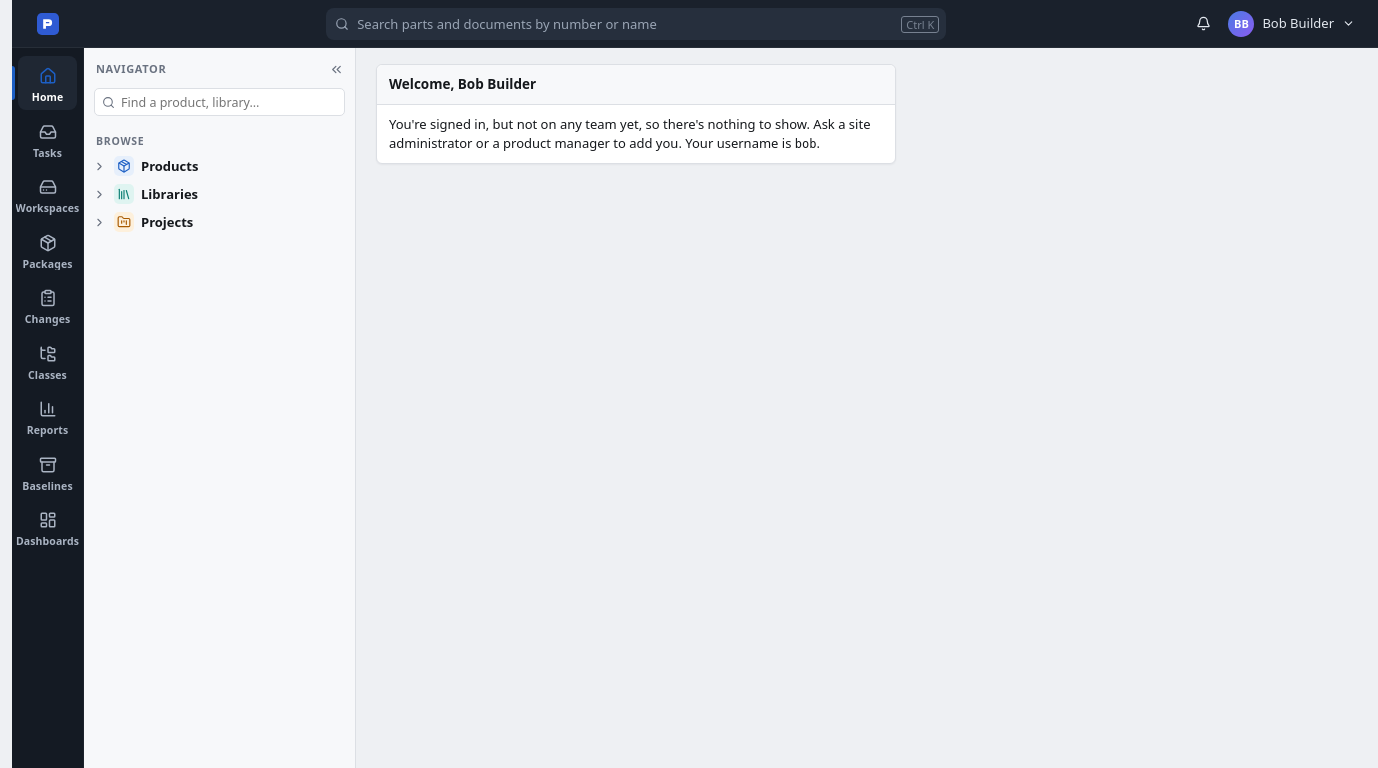
Test: GlobalSearch › goes to the full results page when no suggestion is picked
Type "brack" into the dropdown labelled "Search" at point(636, 24), box top-left (326, 8), bottom-right (946, 40)
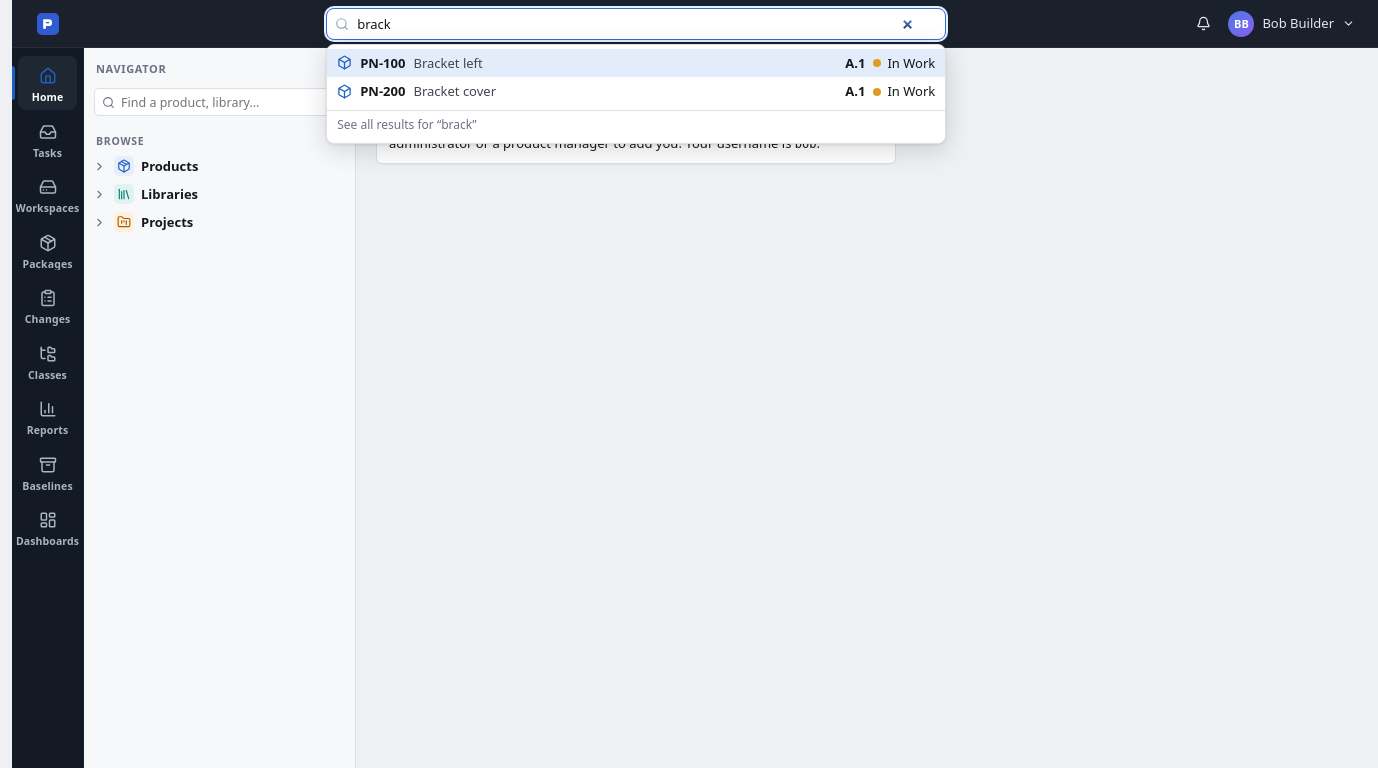
Now the option "PN-100 Bracket left A.1 In Work" is shown, box top-left (327, 48), bottom-right (945, 77)
Press Arrowdown Arrowdown Enter
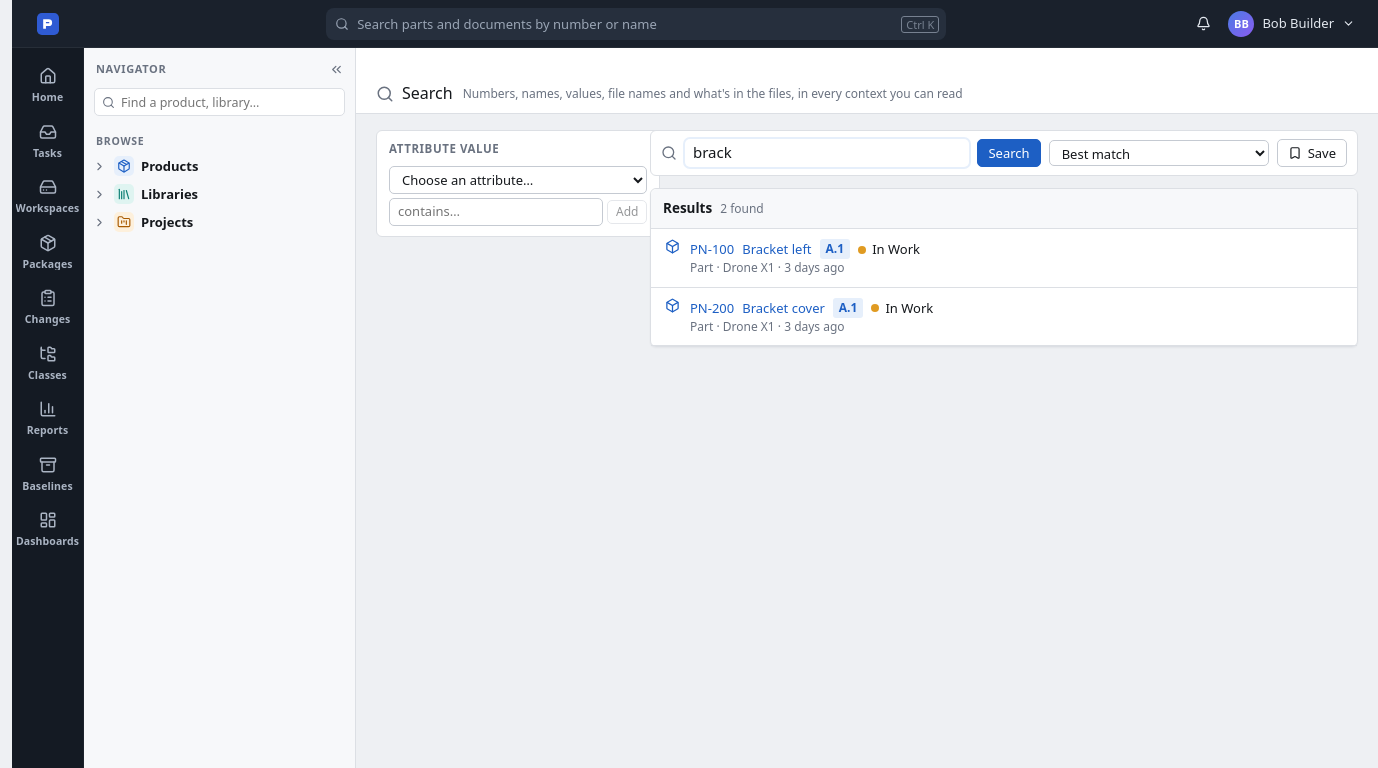
Now the list named "Search results" is shown, box top-left (651, 229), bottom-right (1357, 346)
